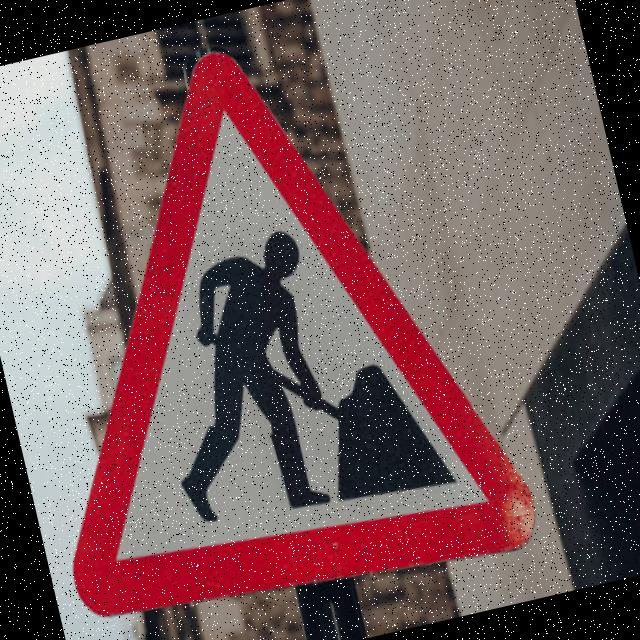road_work: (0, 2, 547, 640)
